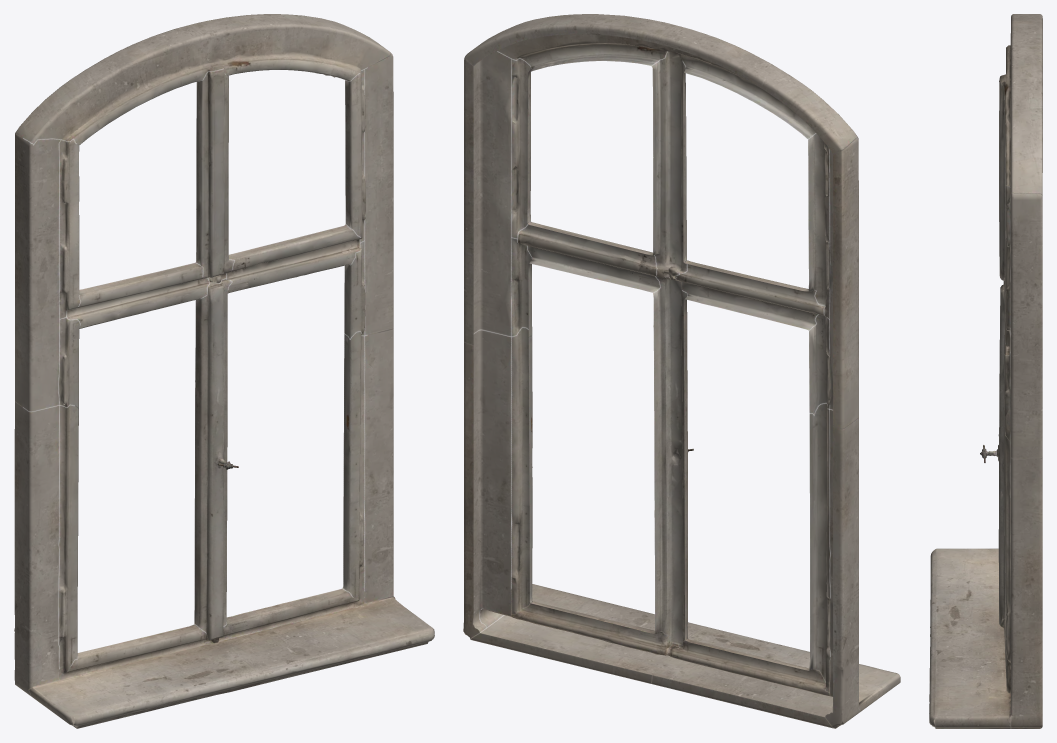
Rendered from window.glb.
3 renders of one model, left to right at view 1: azimuth 30°, elevation 25°; view 2: azimuth 150°, elevation 25°; view 3: azimuth 270°, elevation 25°, orthographic. The views are drawn at different scales.
Parts seen in each view (by area): view 1: xivofg0dw_LOD0_TIER2_000; view 2: xivofg0dw_LOD0_TIER2_000; view 3: xivofg0dw_LOD0_TIER2_000.
Part boxes in pixels (x1,y1,x2,y2): xivofg0dw_LOD0_TIER2_000: (14, 14, 434, 728); xivofg0dw_LOD0_TIER2_000: (463, 14, 900, 728); xivofg0dw_LOD0_TIER2_000: (929, 14, 1042, 728).
Size of the model in its own units: 1.32 by 2.16 by 0.3722.
Materials: 1 (1 with a texture image).
